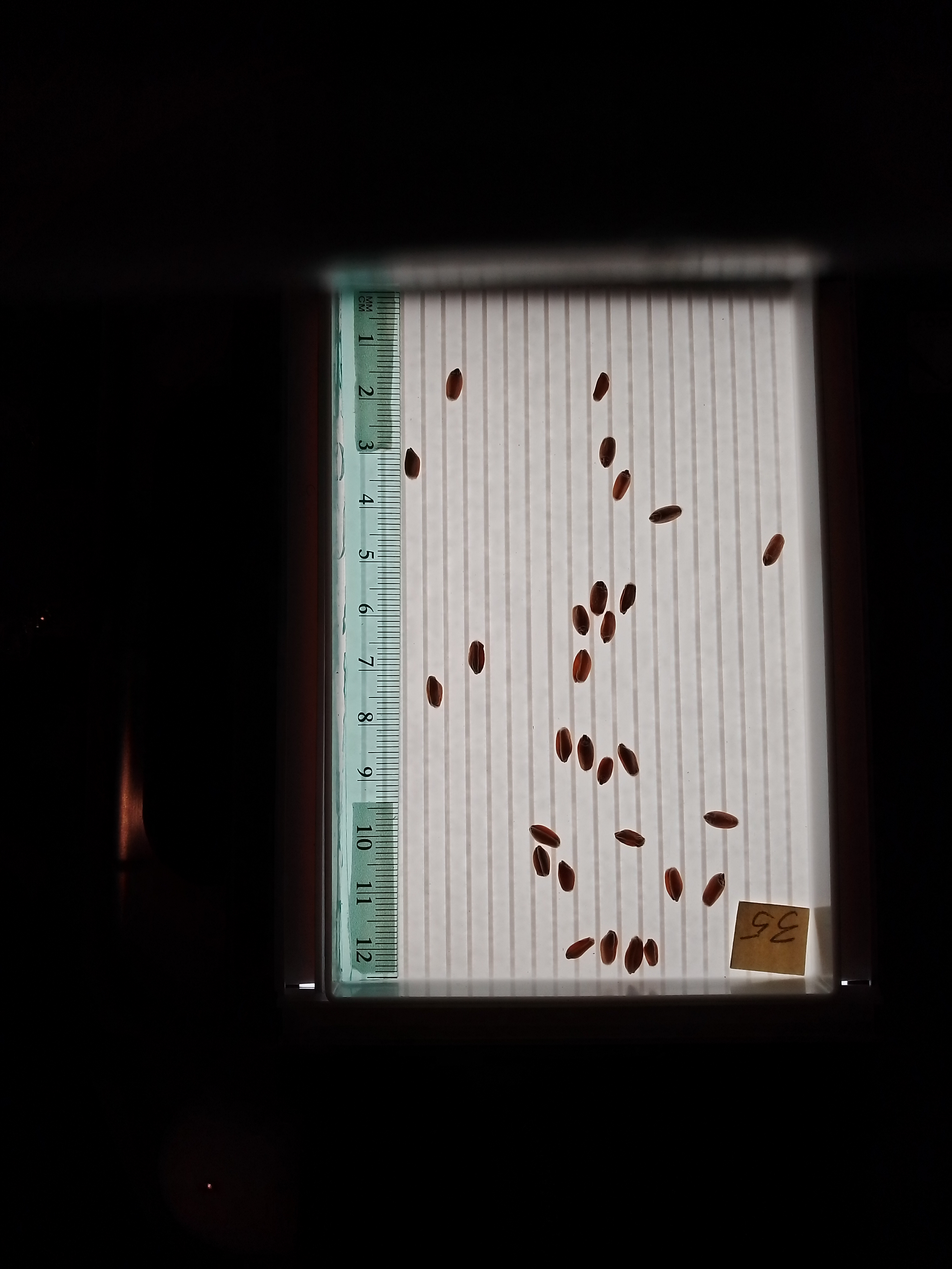seed mask: (703, 874, 726, 906), (530, 824, 559, 848), (704, 810, 738, 830), (763, 534, 784, 566), (618, 745, 639, 776), (625, 937, 643, 973), (566, 937, 594, 960), (577, 735, 594, 772), (650, 505, 682, 524), (572, 651, 591, 683), (665, 868, 683, 901), (616, 829, 645, 849), (590, 582, 608, 614), (612, 471, 631, 500), (426, 676, 443, 708), (572, 605, 590, 635), (556, 728, 572, 761), (446, 369, 463, 400), (599, 437, 616, 468), (601, 932, 618, 963), (533, 848, 551, 877), (620, 584, 637, 614), (404, 448, 420, 479), (558, 862, 575, 891), (469, 642, 484, 673), (597, 757, 614, 784), (593, 373, 609, 401), (601, 613, 616, 642), (645, 940, 658, 966)
